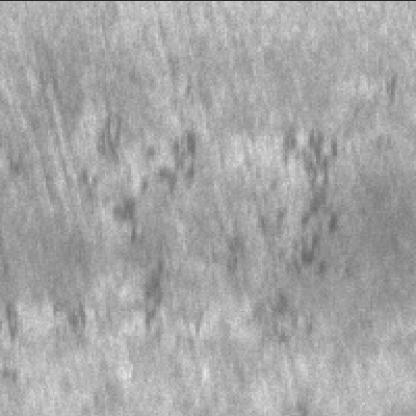rolled-in_scale: (54, 132, 198, 356), (222, 127, 356, 343)
